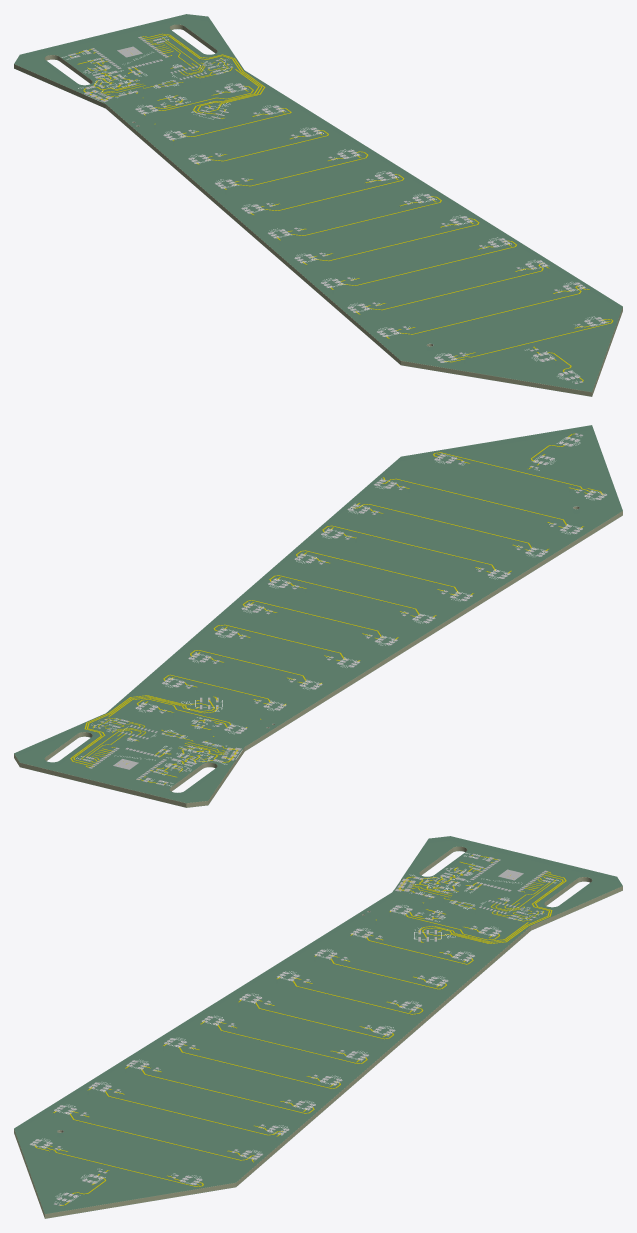
Rendered from northsec-2022-badge.glb.
3 views of the same model, one above another, from view 1: azimuth 30°, elevation 25°; view 2: azimuth 150°, elevation 25°; view 3: azimuth 330°, elevation 25° (orthographic).
Visible parts, largest first — view 1: =>[0:1:1:7], =>[0:1:1:9], =>[0:1:1:2], =>[0:1:1:5]; view 2: =>[0:1:1:7], =>[0:1:1:9], =>[0:1:1:2], =>[0:1:1:5]; view 3: =>[0:1:1:7], =>[0:1:1:9], =>[0:1:1:2], =>[0:1:1:5].
Part boxes in pixels (x1=…): =>[0:1:1:7]: x1=14, y1=14, x2=622, y2=396; =>[0:1:1:9]: x1=14, y1=15, x2=622, y2=396; =>[0:1:1:2]: x1=68, y1=33, x2=613, y2=383; =>[0:1:1:5]: x1=61, y1=36, x2=608, y2=382; =>[0:1:1:7]: x1=14, y1=425, x2=622, y2=807; =>[0:1:1:9]: x1=14, y1=426, x2=622, y2=807; =>[0:1:1:2]: x1=70, y1=433, x2=606, y2=785; =>[0:1:1:5]: x1=76, y1=435, x2=606, y2=786; =>[0:1:1:7]: x1=14, y1=836, x2=622, y2=1218; =>[0:1:1:9]: x1=14, y1=837, x2=622, y2=1218; =>[0:1:1:2]: x1=29, y1=853, x2=566, y2=1205; =>[0:1:1:5]: x1=30, y1=853, x2=560, y2=1203.
Bounding box in the file's own units: 0.08 × 0.00166 × 0.305.
Materials: 4 (4 with a texture image).
